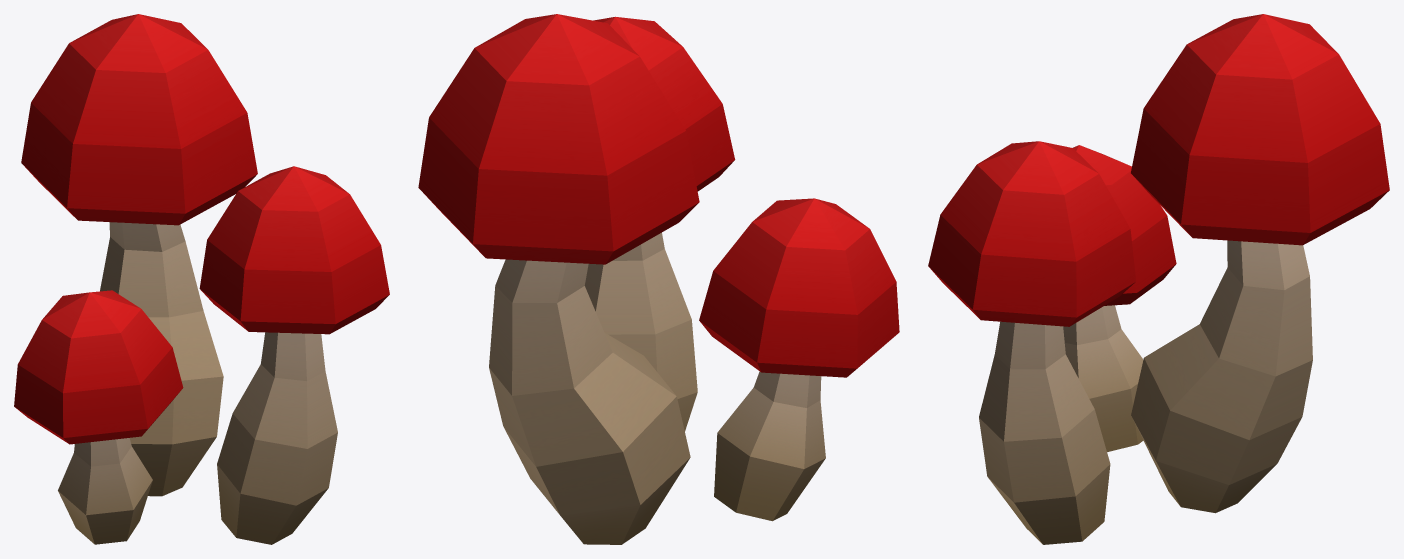
The model's file is Mushroom_Red_Clump_01.fbx.
3 views of the same model, side by side, from view 1: azimuth 30°, elevation 25°; view 2: azimuth 150°, elevation 25°; view 3: azimuth 270°, elevation 25° (orthographic). The views are drawn at different scales.
Parts seen in each view (by area): view 1: Mushroom_Red_Clump_01; view 2: Mushroom_Red_Clump_01; view 3: Mushroom_Red_Clump_01.
Boxes of the visible parts, x1,y1,x2,y2 form: Mushroom_Red_Clump_01: (14,14,389,544); Mushroom_Red_Clump_01: (418,14,899,544); Mushroom_Red_Clump_01: (928,14,1389,544).
Bounding box in the file's own units: 29.27 × 40.9 × 34.06.
